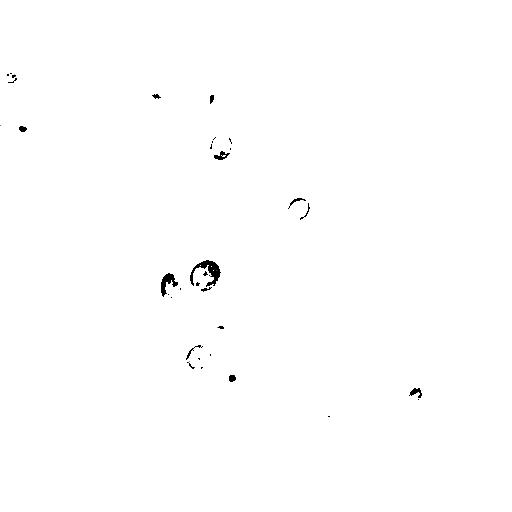micro-algae: (395, 0, 440, 42), (189, 259, 223, 294), (216, 358, 247, 395), (4, 113, 35, 141), (240, 137, 267, 167), (157, 272, 185, 300), (283, 197, 313, 223), (210, 131, 234, 163), (185, 344, 211, 372), (202, 89, 220, 110), (406, 385, 424, 403), (1, 71, 19, 85)
